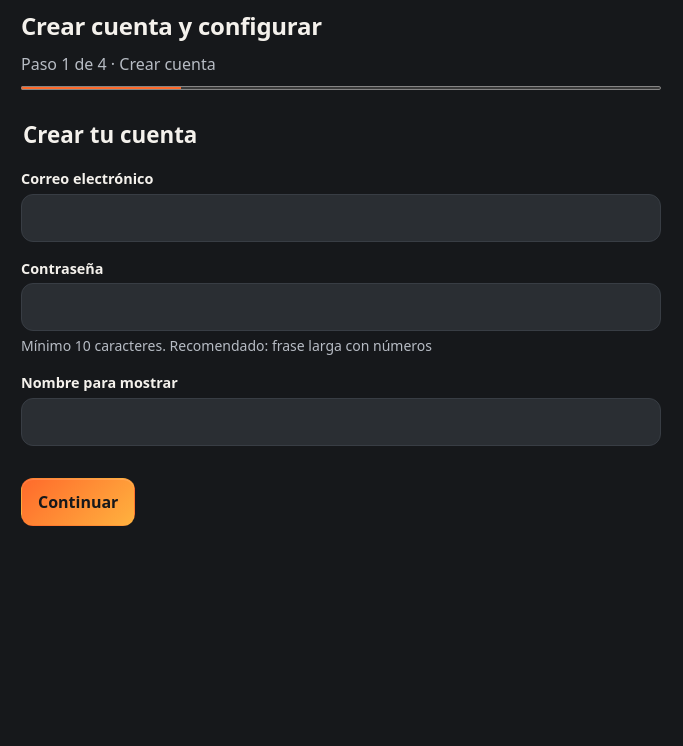
Test: OnboardingScreen › exige fecha de nacimiento y altura (el backend las necesita para completar el onboarding)
Type "lucia@example.org" into the field labelled "Correo electrónico" at (341, 218), box [21,194,661,242]
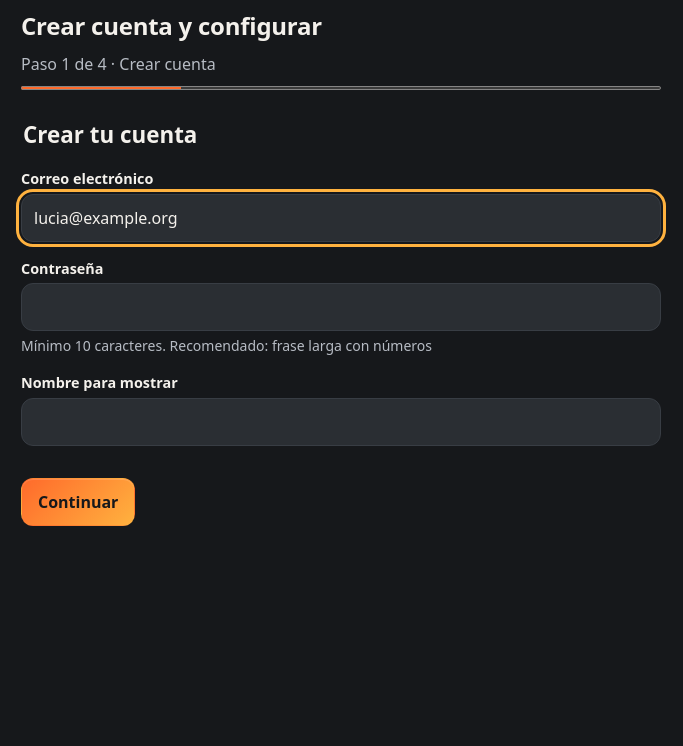
Type "brasa-y-yunque-2026" into the password field labelled "Contraseña" at (341, 307), box [21,283,661,331]
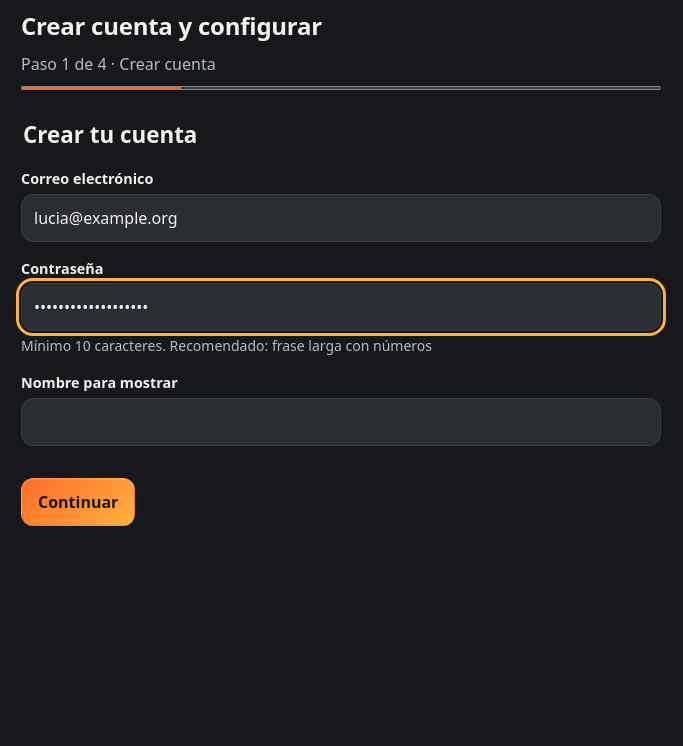
Type "Lucía" into the field labelled "Nombre para mostrar" at (341, 422), box [21,398,661,446]
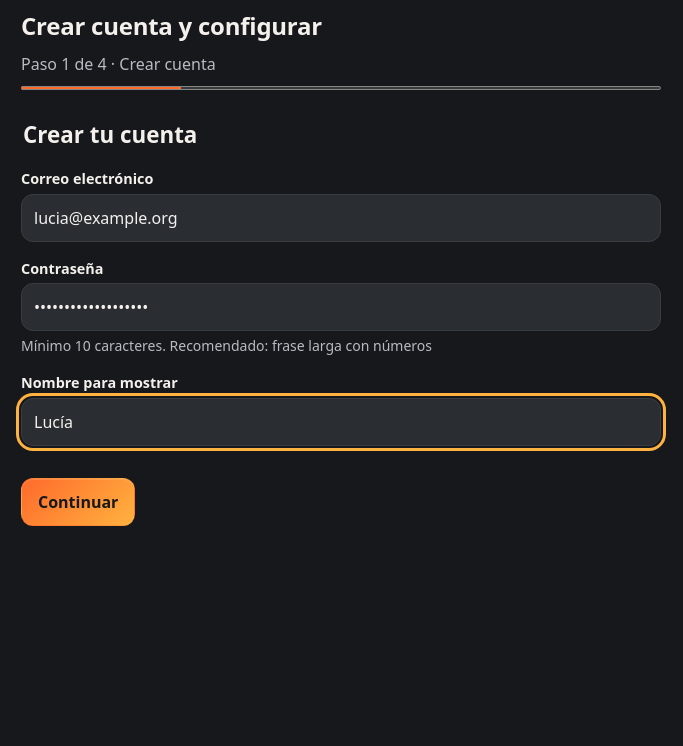
Click the button "Continuar" at (78, 502), box [21,478,135,526]
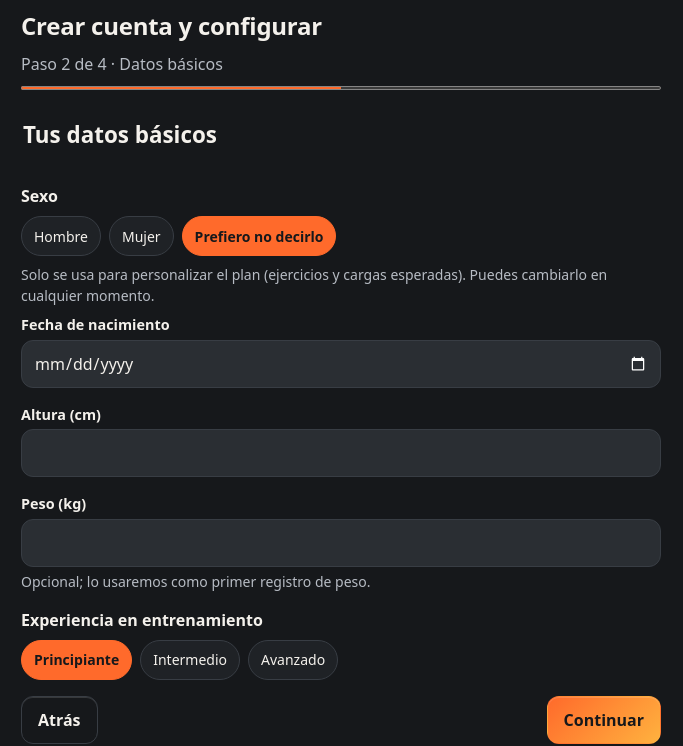
Check: the date field labelled "Fecha de nacimiento" is shown, box [21,340,661,388]
Click the button "Continuar" at (604, 720), box [547,696,661,744]
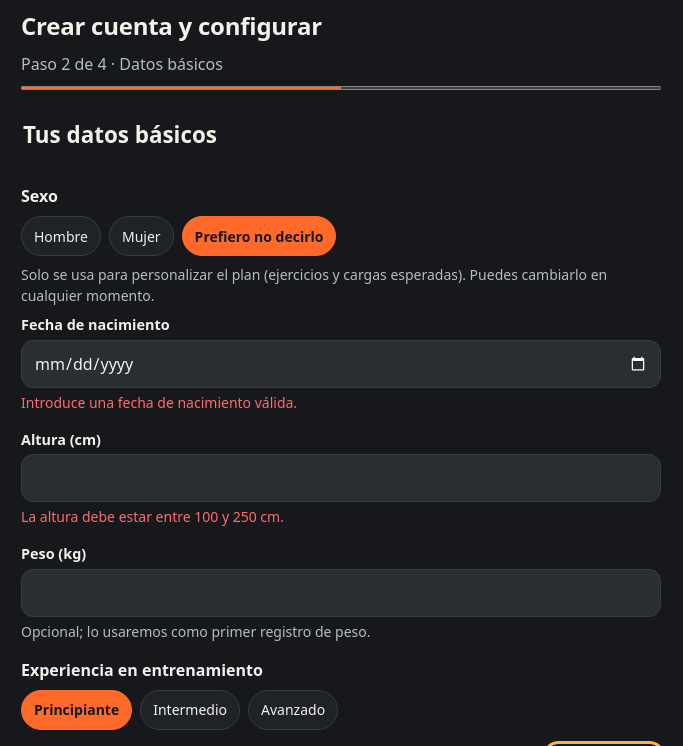
Check: the text "Paso 2 de 4 · Datos básicos" is shown, box [21,53,223,75]
Check: the text "Introduce una fecha de nacimiento válida." is shown, box [21,393,297,412]
Check: the text "La altura debe estar entre 100 y 250 cm." is shown, box [21,507,284,526]
